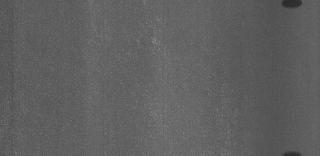oil spot: (278, 1, 304, 12), (280, 150, 306, 154)
